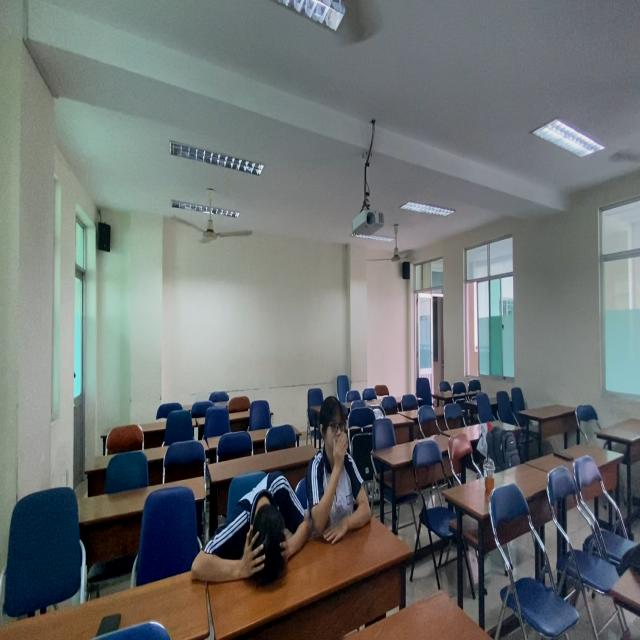raise_hand: (306, 391, 380, 540)
sleep: (182, 454, 312, 589)
